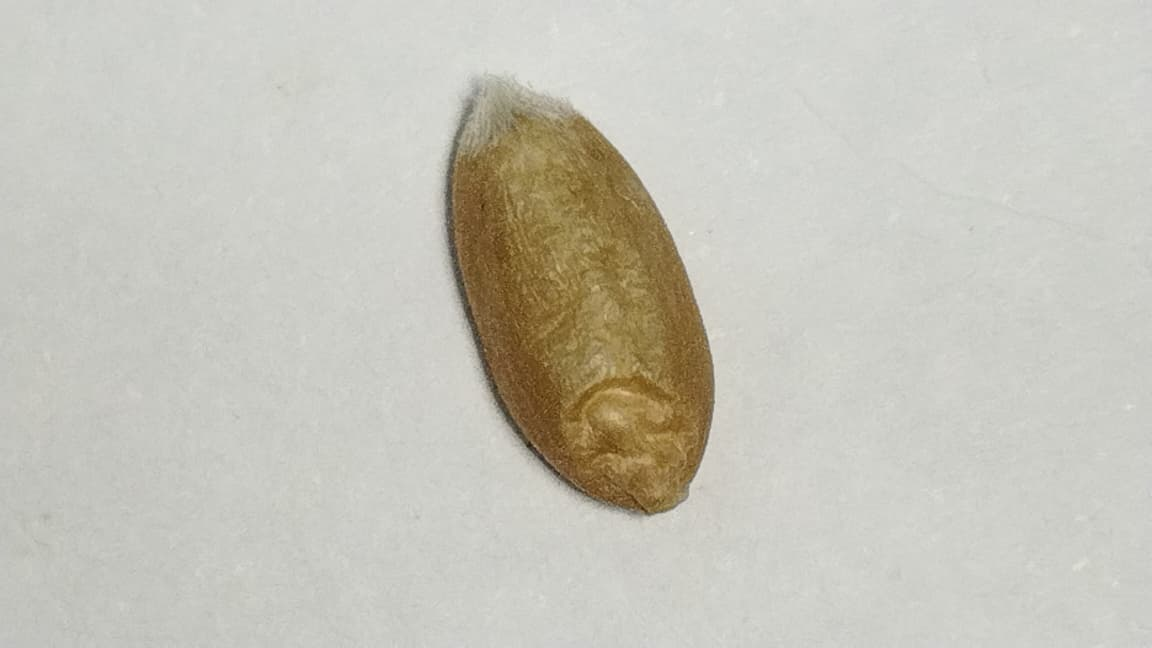healthy: (450, 75, 714, 513)
